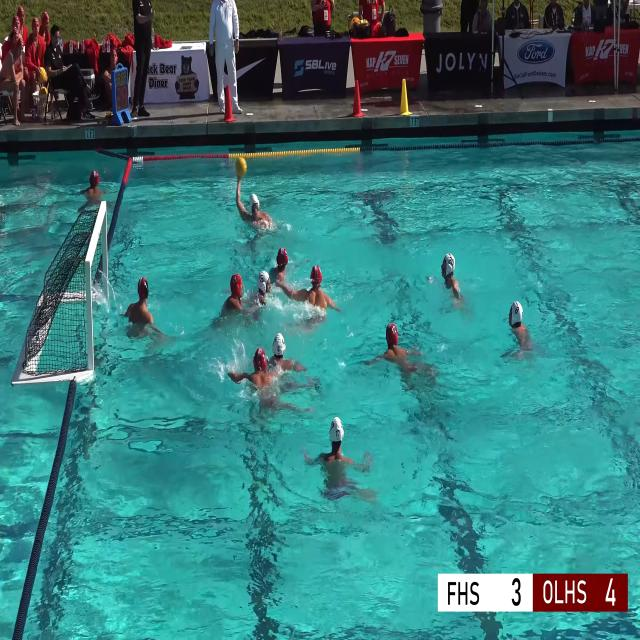ball: (235, 157, 247, 177)
